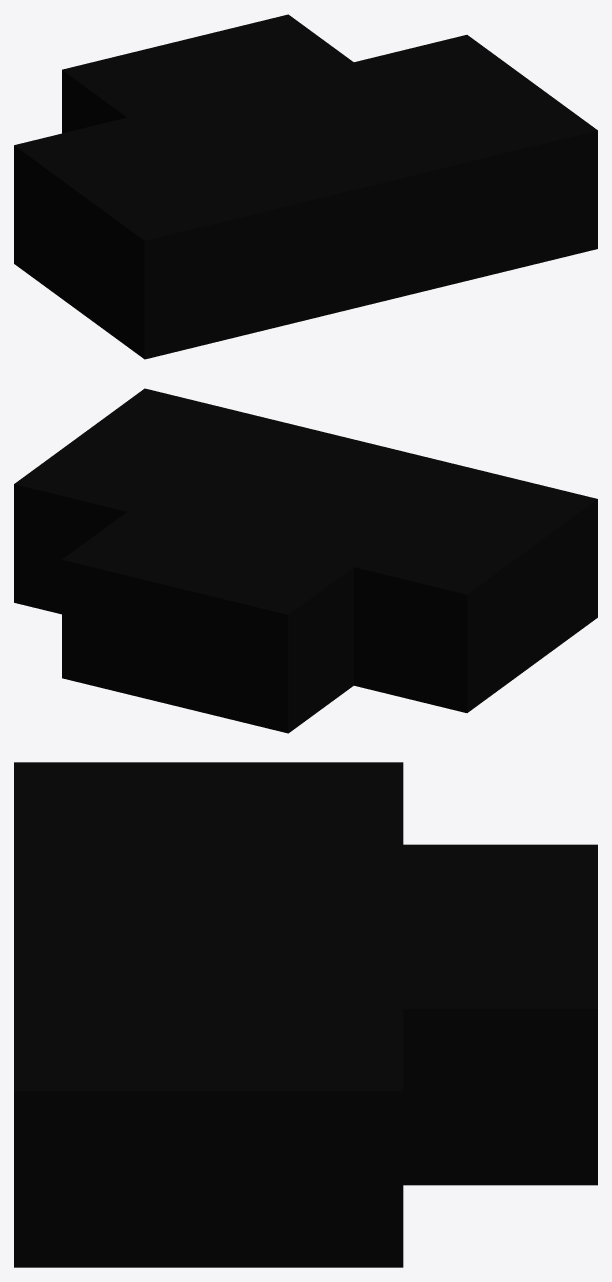
The model's file is tavern-57-bread_slice.glb.
The picture shows the model from 3 angles, top to bottom: view 1: azimuth 30°, elevation 25°; view 2: azimuth 150°, elevation 25°; view 3: azimuth 270°, elevation 25°; orthographic projection. The views are drawn at different scales.
Parts seen in each view (by area): view 1: bread_slice; view 2: bread_slice; view 3: bread_slice.
Boxes of the visible parts, x1,y1,x2,y2 form: bread_slice: (14, 14, 597, 359); bread_slice: (14, 388, 597, 733); bread_slice: (14, 762, 597, 1267).
Size of the model in its own units: 0.4 by 0.1 by 0.3.
Materials: 1 (1 with a texture image).
